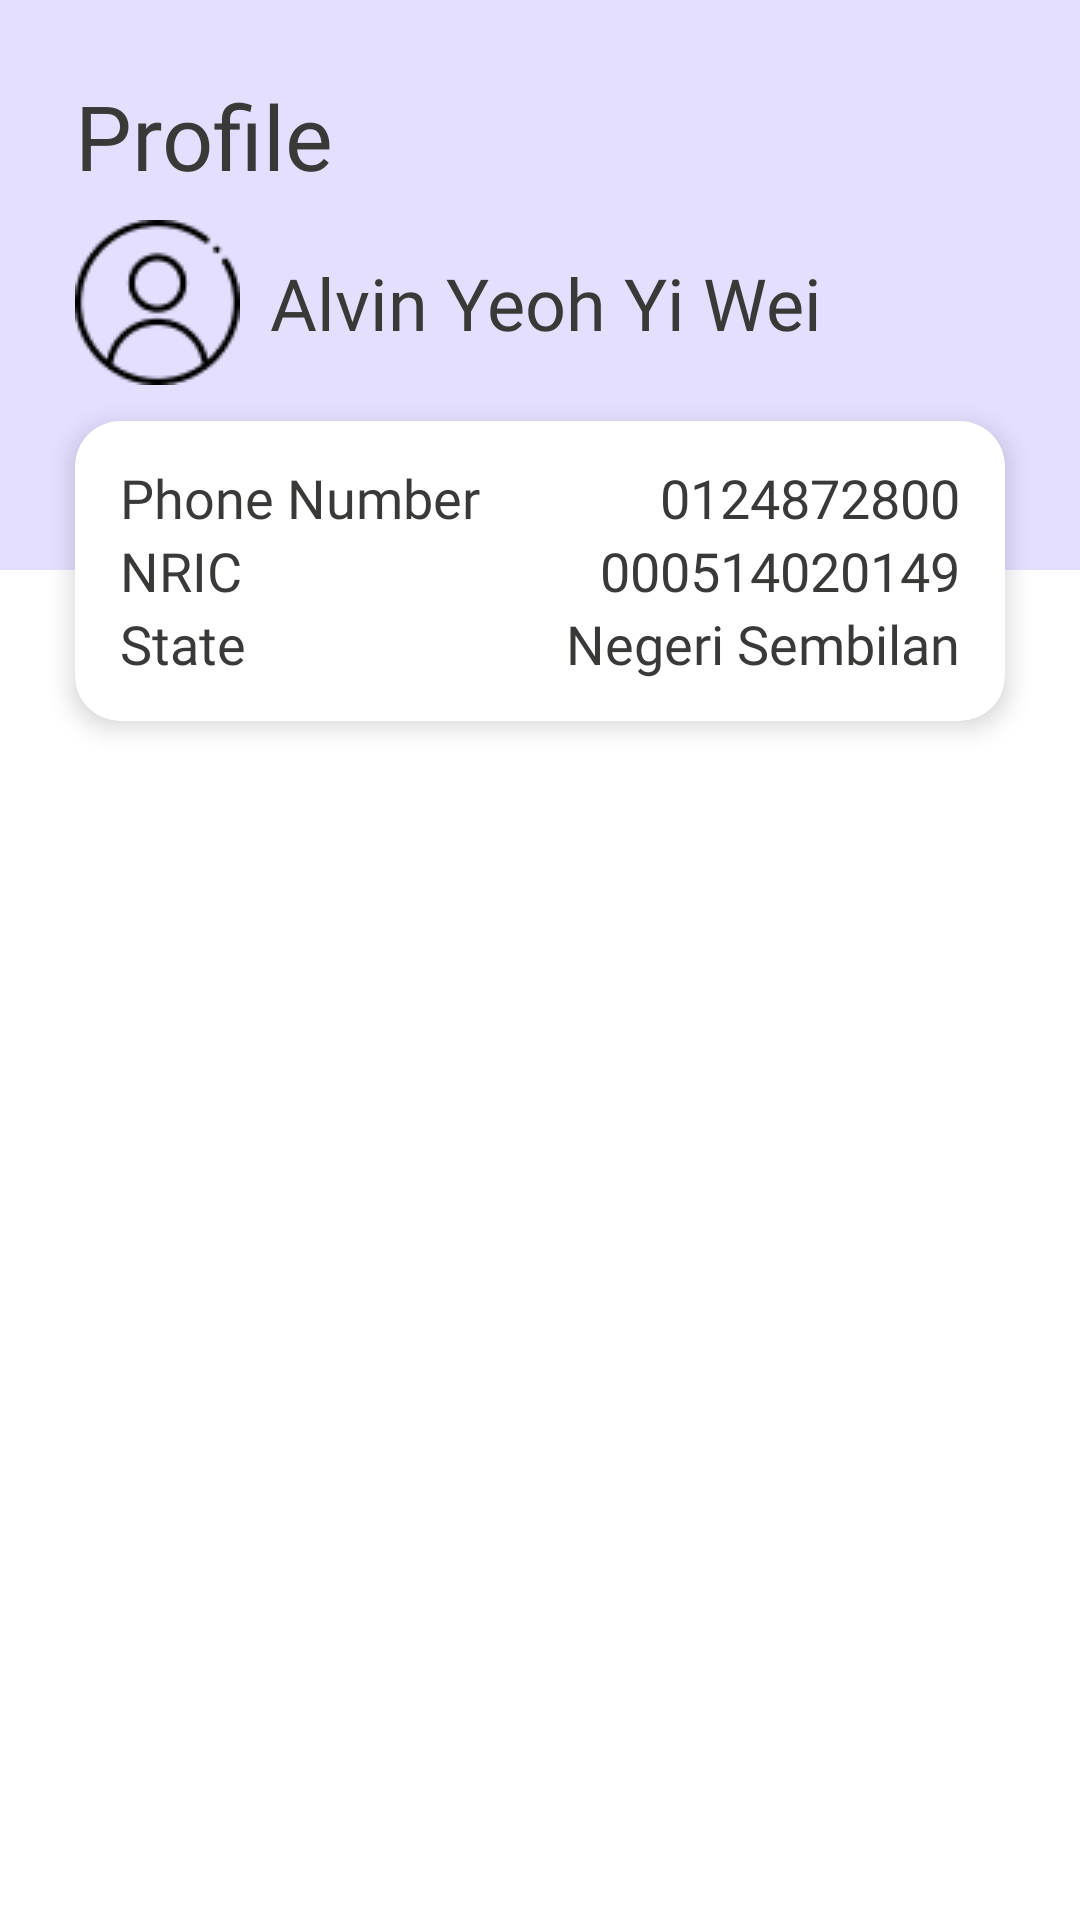

Where to tap for icons on this 1080x1920 app screen, as (x=x, y=y):
user: (x=157, y=302)
